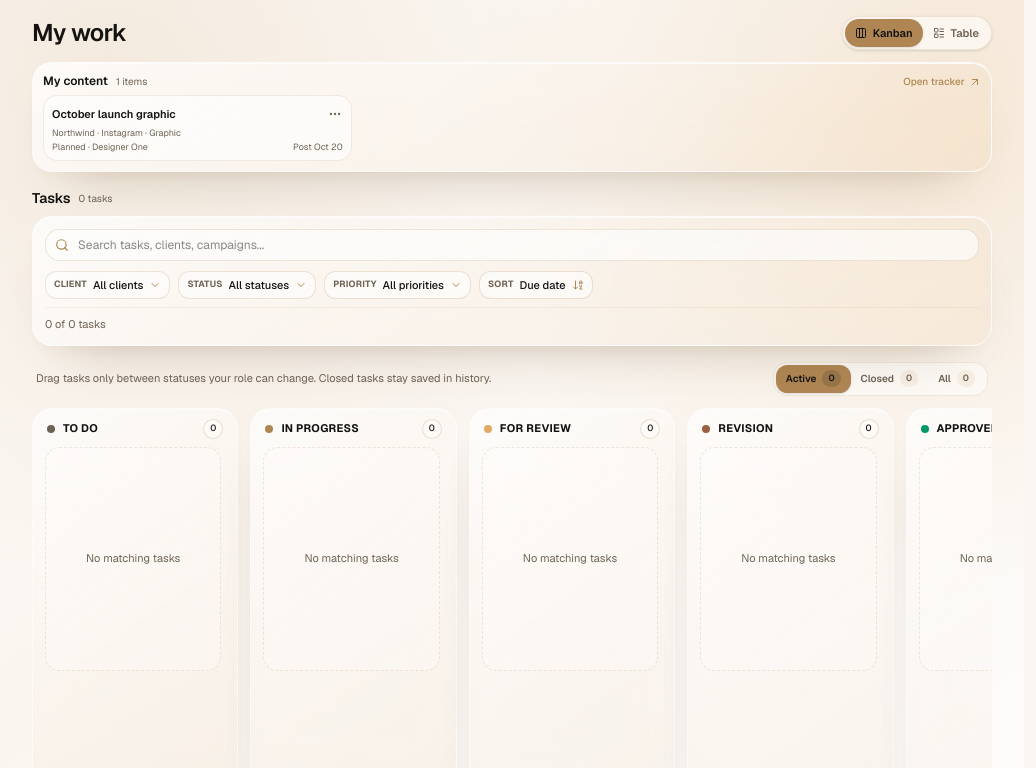
Test: My Work calendar content › switches to a compact table view
This screenshot has width=1036, height=768.
Click the button "Table": click(956, 33) [923,19,989,47]
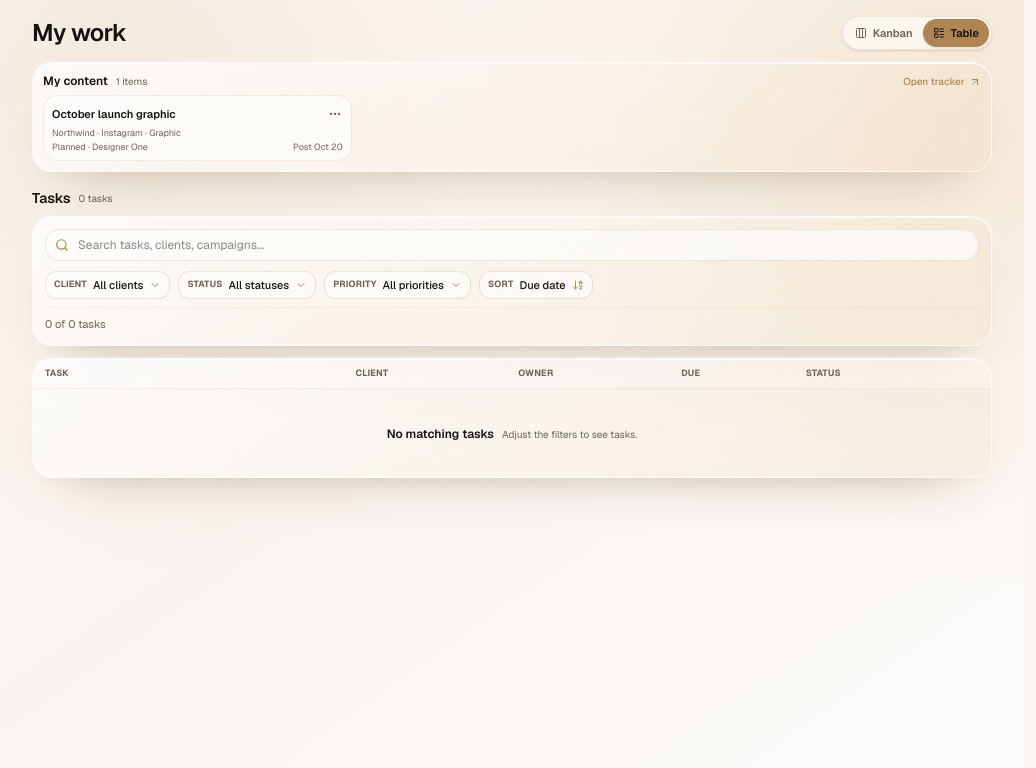
Check: the table "tasks" is shown, box [33,358,991,477]
Check: the column heading "Owner" is shown, box [510,358,673,388]
